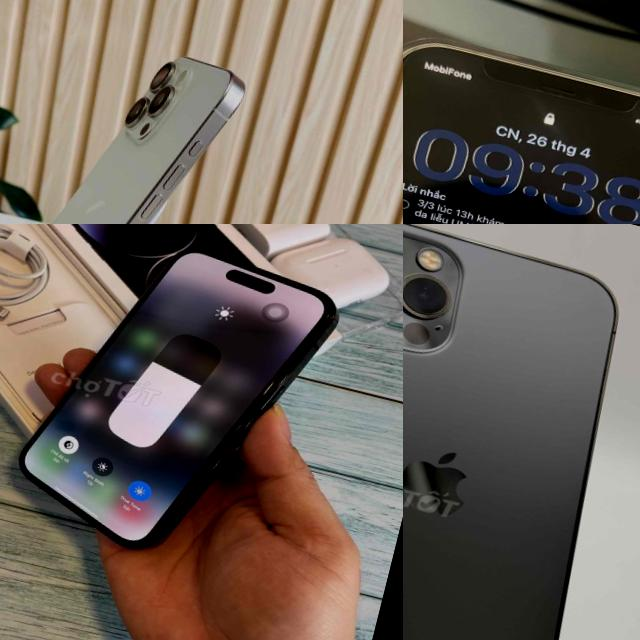gen_12_13: (403, 224, 640, 640), (403, 15, 640, 224)
gen_14: (0, 224, 345, 580)
gen_15: (0, 4, 258, 224)
